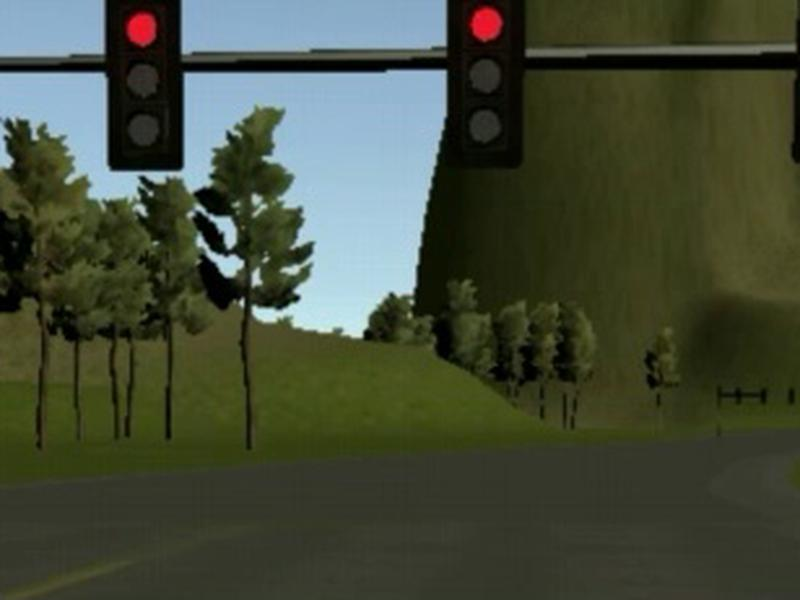Red: (102, 1, 184, 169), (446, 1, 522, 167)
